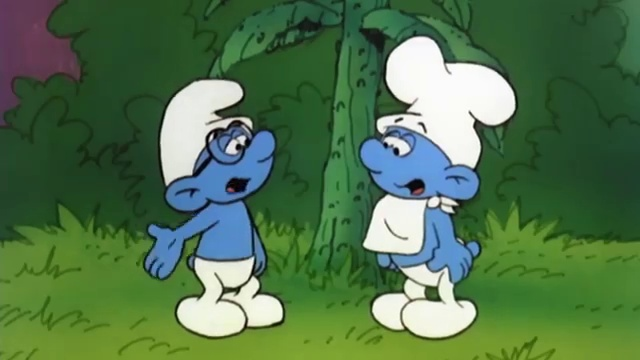smurf: (356, 35, 519, 341), (140, 78, 286, 340)
